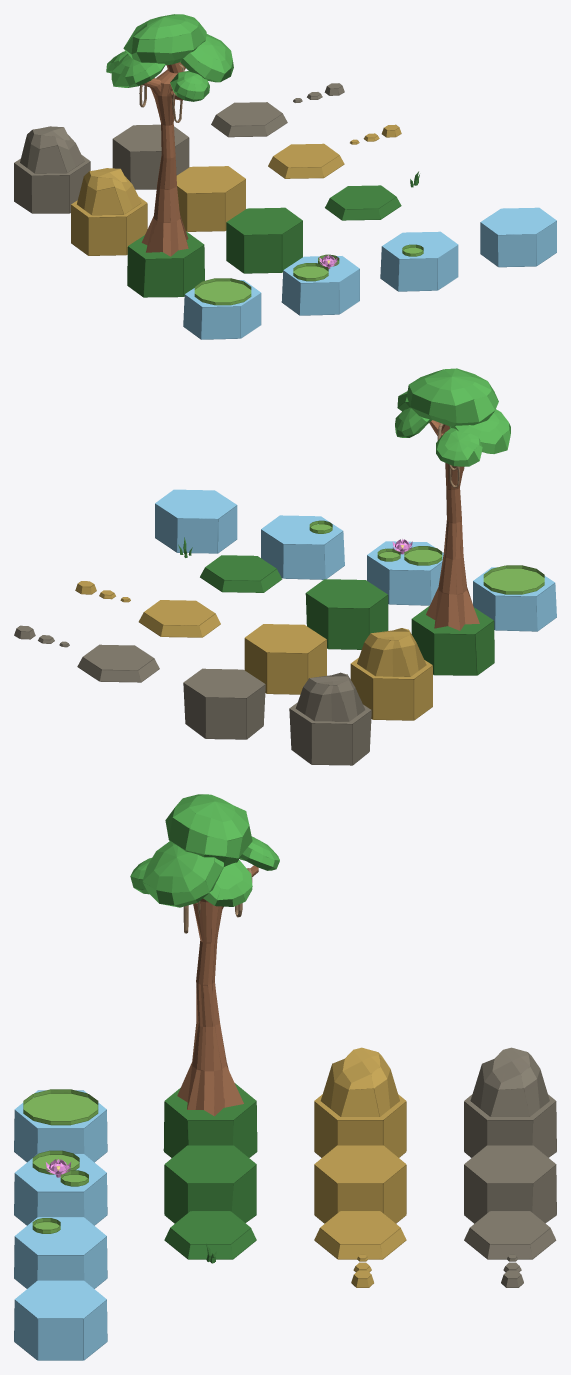
File: terrain.fbx
The picture shows the model from 3 angles, top to bottom: view 1: azimuth 30°, elevation 25°; view 2: azimuth 150°, elevation 25°; view 3: azimuth 270°, elevation 25°; orthographic projection. The views are drawn at different scales.
Parts seen in each view (by area): view 1: cylinder_1, cylinder_8, cylinder_2, cylinder, cylinder_10, cylinder_15, cylinder_13, cylinder_18, cylinder_24, sphere_4, cylinder_14, cylinder_25 (+10 smaller); view 2: cylinder_18, cylinder, cylinder_1, cylinder_2, cylinder_10, sphere_4, cylinder_8, cylinder_15, cylinder_25, cylinder_24, cylinder_14, cylinder_13 (+10 smaller); view 3: cylinder_2, cylinder_8, cylinder, cylinder_18, cylinder_1, cylinder_10, cylinder_13, sphere_4, cylinder_15, cylinder_20, cylinder_12, sphere_2 (+10 smaller).
Part boxes in pixels (x1=…): cylinder_1: x1=226, y1=207, x2=302, y2=273; cylinder_8: x1=141, y1=62, x2=188, y2=256; cylinder_2: x1=480, y1=207, x2=556, y2=267; cylinder: x1=176, y1=166, x2=245, y2=231; cylinder_10: x1=380, y1=231, x2=458, y2=291; cylinder_15: x1=127, y1=231, x2=204, y2=297; cylinder_13: x1=281, y1=256, x2=359, y2=315; cylinder_18: x1=112, y1=124, x2=189, y2=189; cylinder_24: x1=71, y1=196, x2=147, y2=255; sphere_4: x1=123, y1=14, x2=206, y2=65; cylinder_14: x1=183, y1=280, x2=261, y2=339; cylinder_25: x1=14, y1=155, x2=90, y2=213; cylinder_18: x1=183, y1=668, x2=265, y2=739; cylinder: x1=244, y1=624, x2=326, y2=694; cylinder_1: x1=305, y1=579, x2=388, y2=649; cylinder_2: x1=155, y1=489, x2=237, y2=553; cylinder_10: x1=261, y1=515, x2=344, y2=579; sphere_4: x1=407, y1=368, x2=498, y2=426; cylinder_8: x1=426, y1=420, x2=479, y2=630; cylinder_15: x1=411, y1=606, x2=494, y2=675; cylinder_25: x1=289, y1=702, x2=371, y2=765; cylinder_24: x1=350, y1=657, x2=432, y2=720; cylinder_14: x1=473, y1=567, x2=556, y2=631; cylinder_13: x1=367, y1=541, x2=443, y2=605; cylinder_2: x1=14, y1=1280, x2=107, y2=1360; cylinder_8: x1=177, y1=865, x2=258, y2=1116; cylinder: x1=314, y1=1145, x2=406, y2=1223; cylinder_18: x1=464, y1=1145, x2=556, y2=1223; cylinder_1: x1=164, y1=1145, x2=256, y2=1223; cylinder_10: x1=14, y1=1217, x2=107, y2=1288; cylinder_13: x1=14, y1=1153, x2=107, y2=1225; sphere_4: x1=165, y1=794, x2=252, y2=866; cylinder_15: x1=163, y1=1083, x2=257, y2=1157; cylinder_20: x1=470, y1=1047, x2=549, y2=1116; cylinder_12: x1=320, y1=1047, x2=399, y2=1116; sphere_2: x1=142, y1=841, x2=223, y2=907.
Bounding box in the file's own units: 1530 × 1031 × 1450.
Materials: 1 (1 with a texture image).
